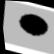correct: (10, 7, 54, 43)
